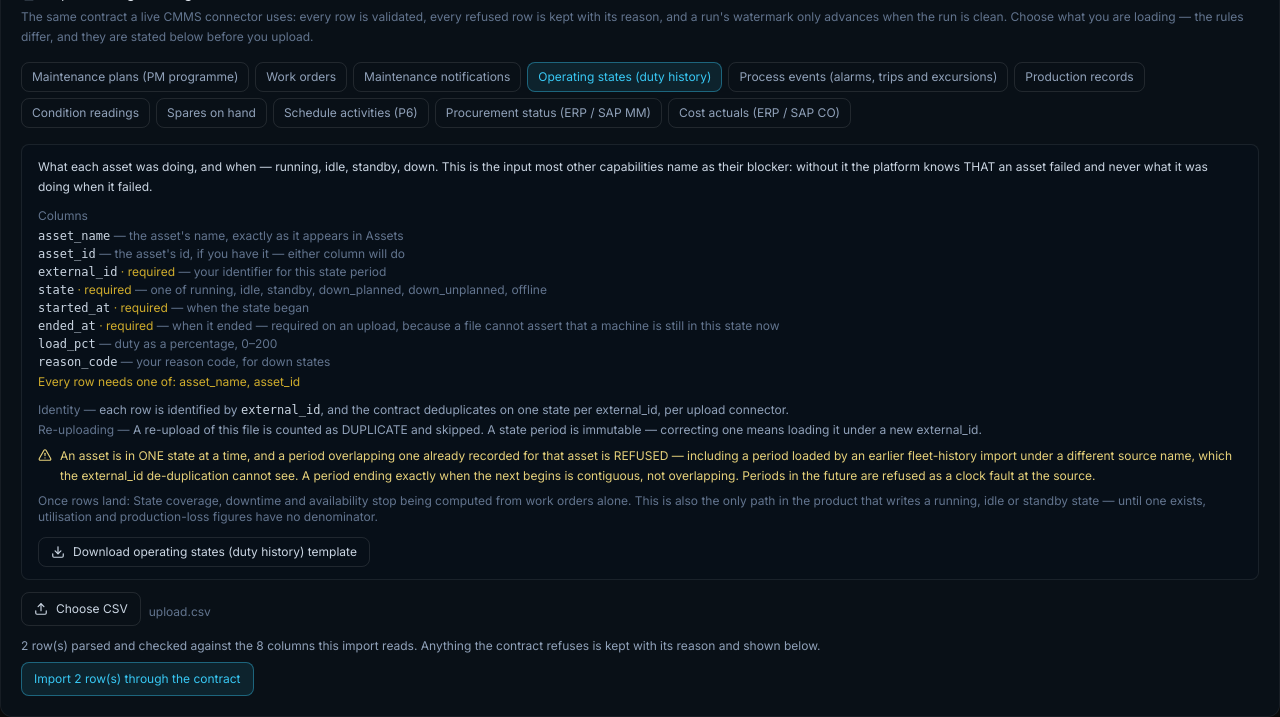
Test: a run is never left running › finishes the run as failure when a batch throws mid-upload
Earlier steps of the test are not shown.
(page scrolled)
Click the button "Import 2 row(s) through the contract". click: [137, 679]
box: [21,662,254,696]
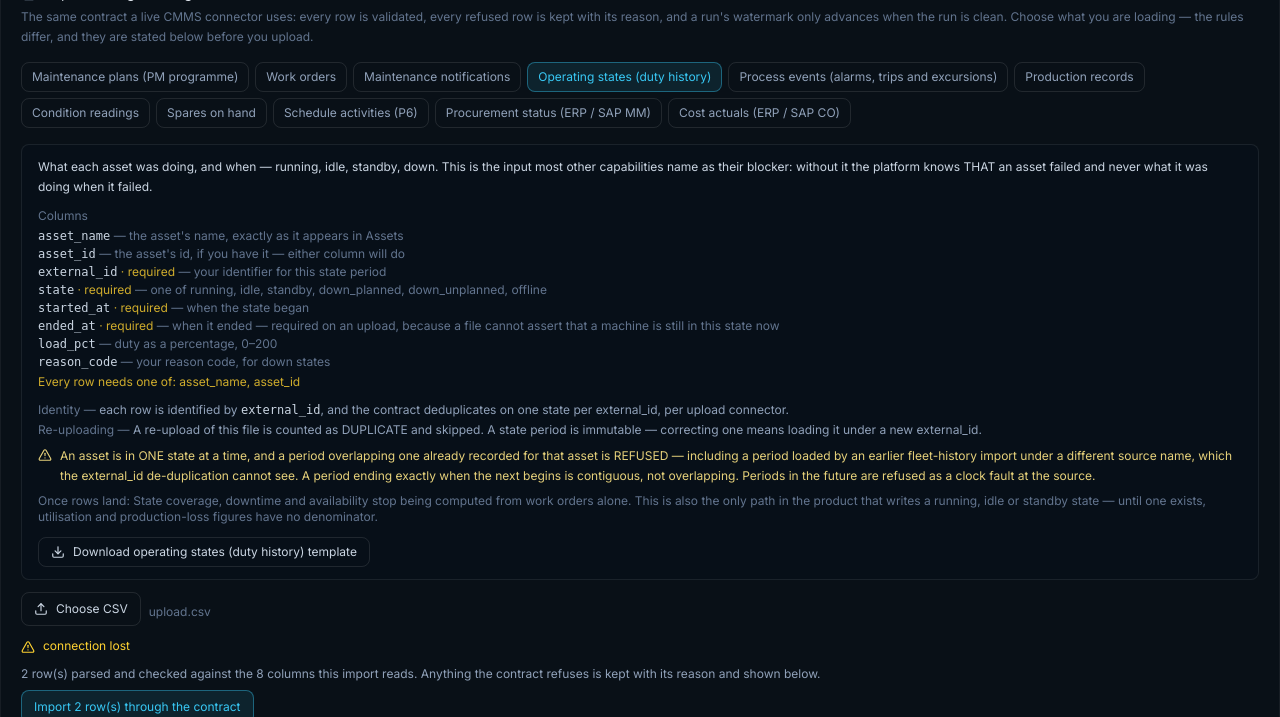
Expected: the text "connection lost" is shown, [21,638,130,654]
